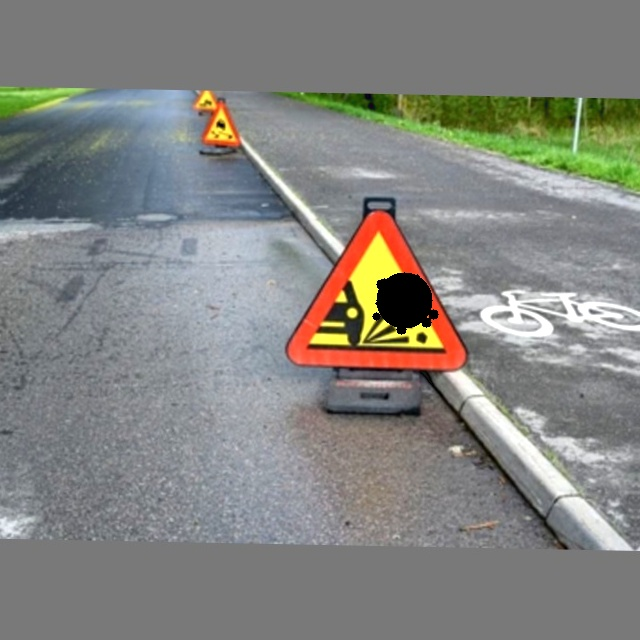Loose_Gravel: (298, 204, 463, 368)
